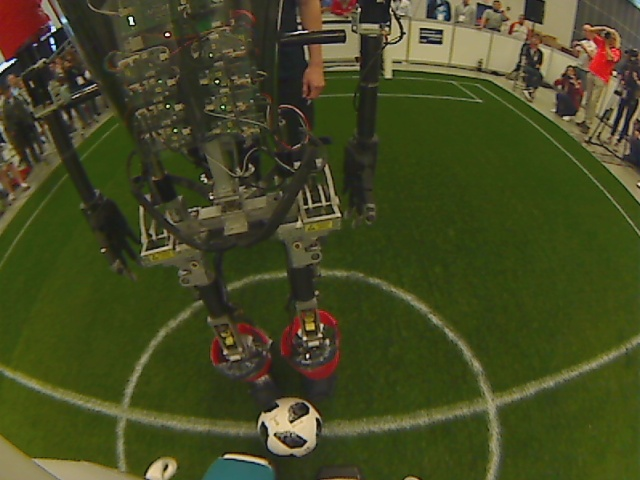ball: (253, 394, 325, 460)
robot: (1, 1, 395, 407)
